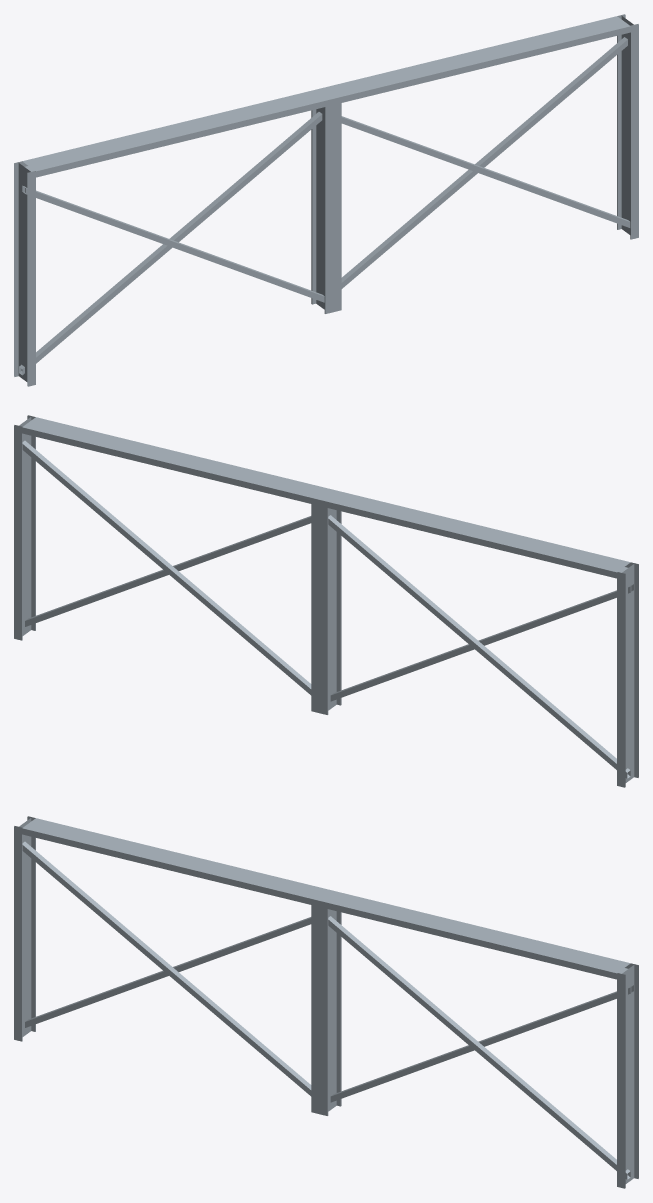
File: SM06_Building_Structure_Wall_Mid_01_Default.fbx
3 views of the same model, one above another, from view 1: azimuth 30°, elevation 25°; view 2: azimuth 150°, elevation 25°; view 3: azimuth 330°, elevation 25° (orthographic).
Parts seen in each view (by area): view 1: SM06_Building_Structure_Wall_Mid_01_Default; view 2: SM06_Building_Structure_Wall_Mid_01_Default; view 3: SM06_Building_Structure_Wall_Mid_01_Default.
Boxes of the visible parts, box(x1,y1,x2,y2) form: SM06_Building_Structure_Wall_Mid_01_Default: box(14, 14, 638, 386); SM06_Building_Structure_Wall_Mid_01_Default: box(14, 415, 638, 787); SM06_Building_Structure_Wall_Mid_01_Default: box(14, 816, 638, 1188).
Size of the model in its own units: 15 by 5.01 by 0.59.
